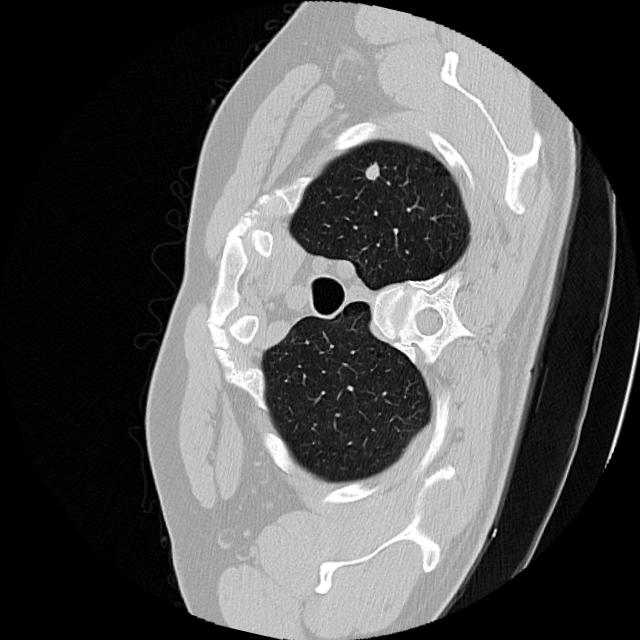nodule: (346, 147, 394, 195)
